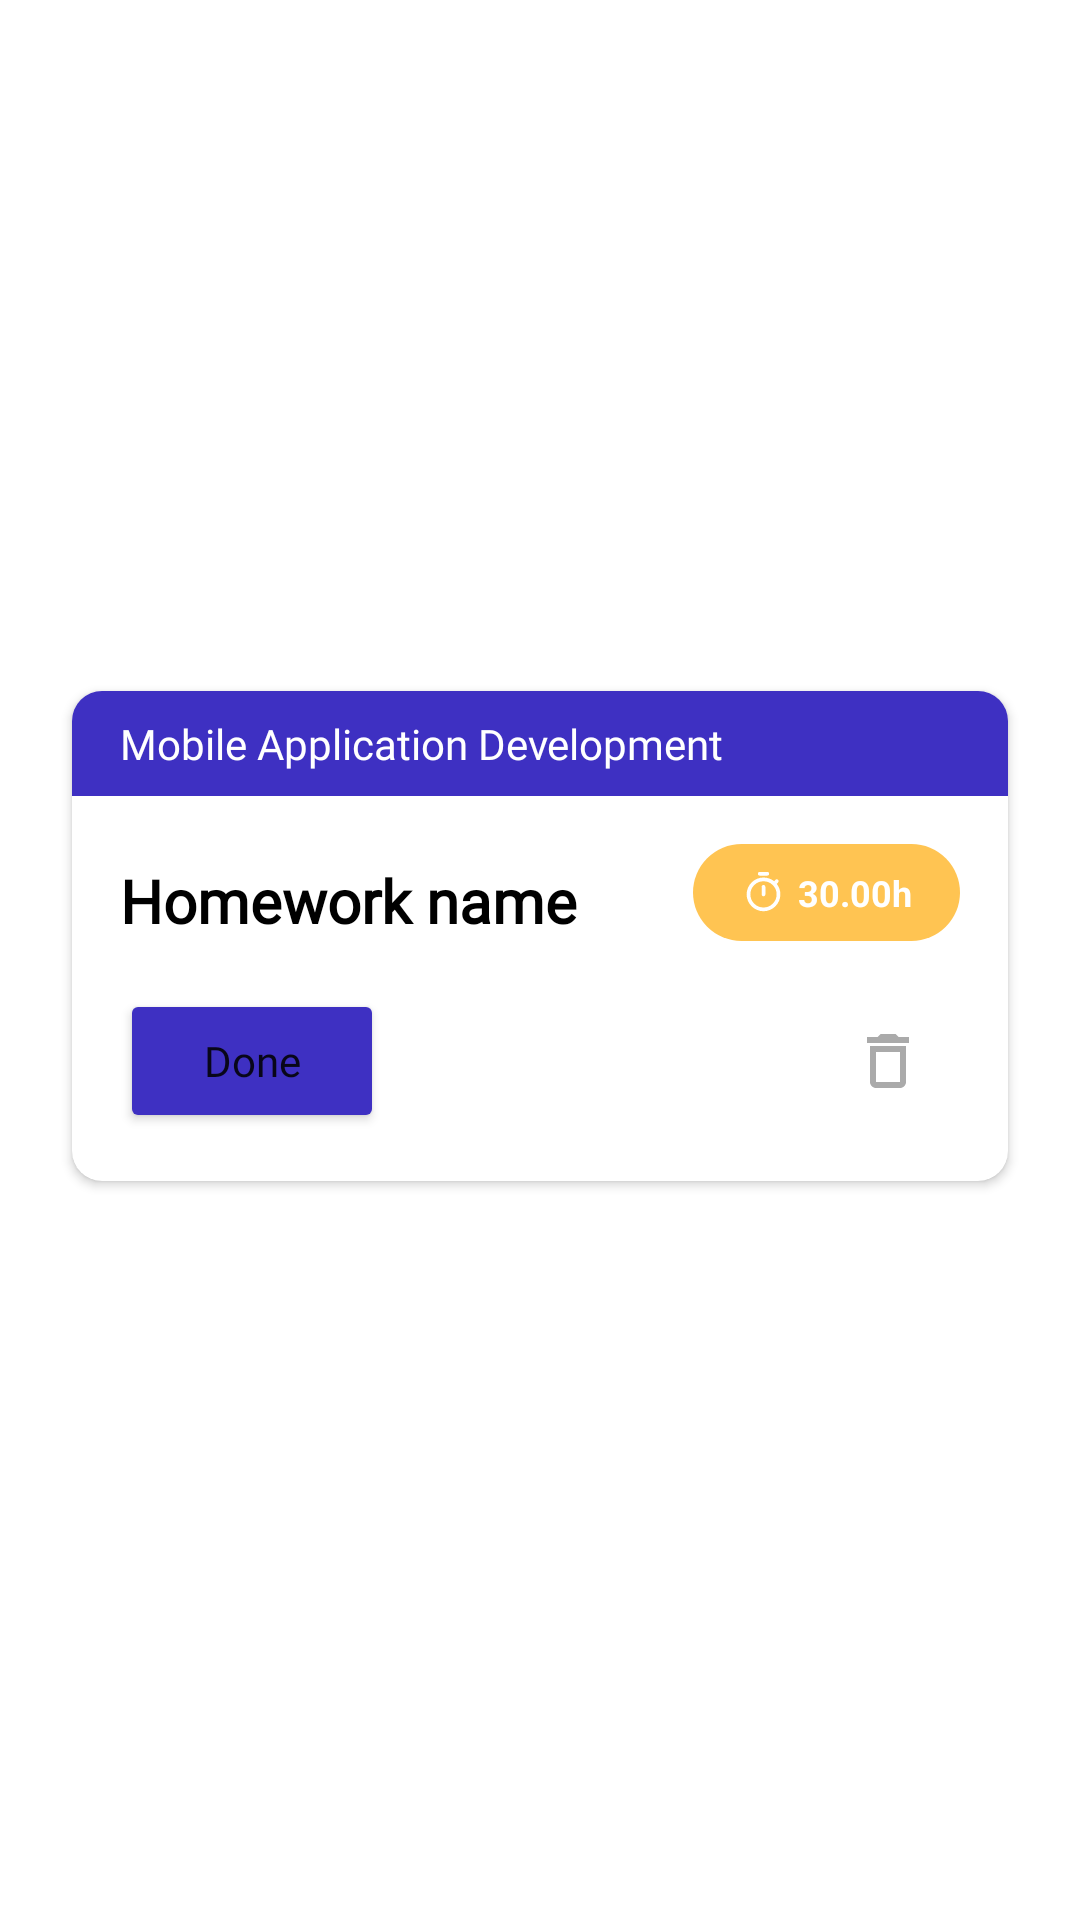

Screen size 1080px x 1920px. Icon name, then its center in pixels as point (x, y):
Delete Module: point (888, 1061)
Time Left: point (763, 892)
